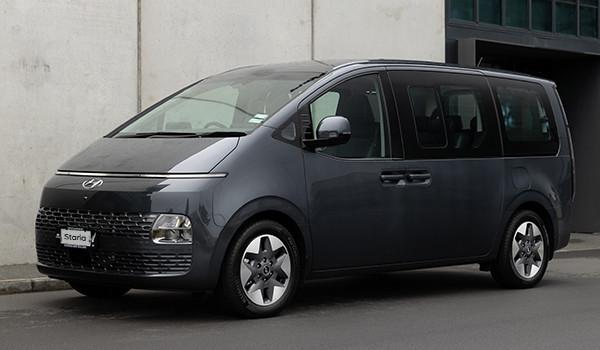van: (31, 58, 576, 319)
